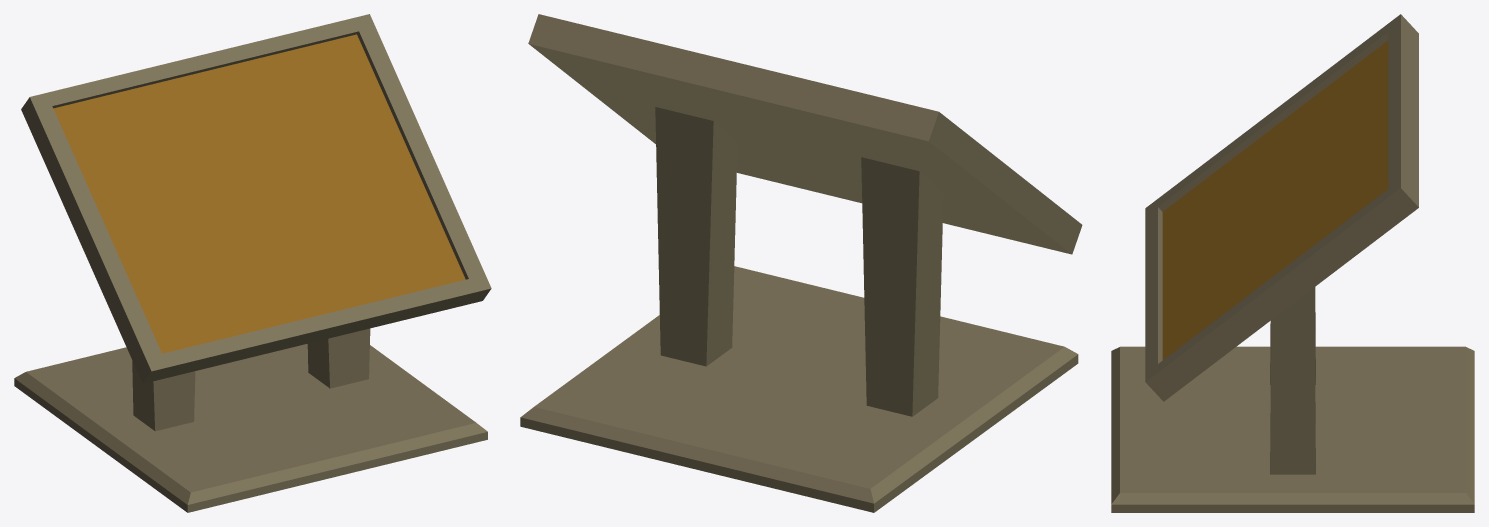
Rendered from Solarpanel.fbx.
3 views of the same model, side by side, from view 1: azimuth 30°, elevation 25°; view 2: azimuth 150°, elevation 25°; view 3: azimuth 270°, elevation 25° (orthographic). The views are drawn at different scales.
Parts seen in each view (by area): view 1: Plane.001; view 2: Plane.001; view 3: Plane.001.
Boxes of the visible parts, box(x1,y1,x2,y2) form: Plane.001: box(14, 14, 491, 512); Plane.001: box(520, 14, 1082, 512); Plane.001: box(1111, 14, 1474, 512).
Size of the model in its own units: 123 by 110 by 108.
